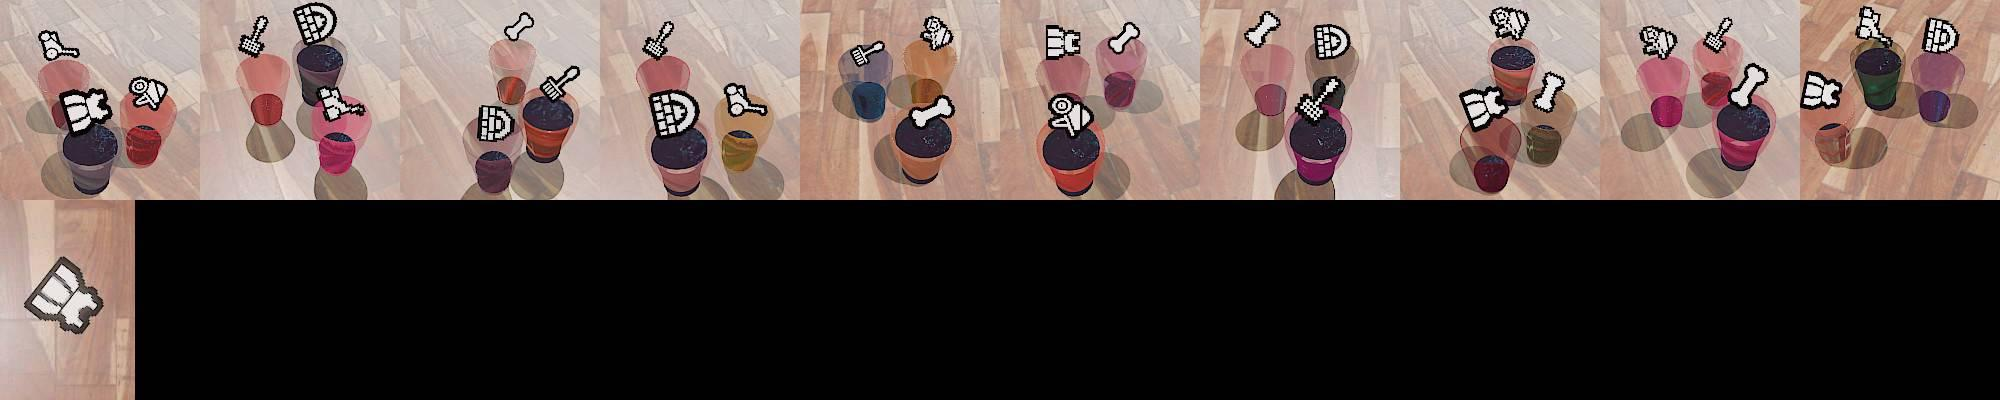icon: (1040, 93, 1105, 195), (892, 88, 958, 187), (23, 257, 106, 335), (648, 88, 702, 138), (58, 86, 112, 134), (1461, 84, 1511, 131), (293, 3, 340, 49), (1294, 78, 1339, 122), (1728, 61, 1768, 109), (317, 84, 365, 121), (1854, 5, 1894, 49), (723, 82, 770, 119), (1800, 70, 1843, 109), (1532, 70, 1568, 114), (540, 64, 581, 102), (36, 29, 80, 63), (477, 103, 515, 142), (1244, 10, 1282, 49), (1922, 17, 1959, 56), (1313, 22, 1351, 59), (129, 76, 169, 111), (642, 20, 677, 60), (1489, 6, 1530, 40), (238, 15, 270, 58), (1045, 23, 1082, 60), (1640, 25, 1679, 60), (919, 14, 955, 51), (1702, 16, 1734, 54), (1107, 19, 1141, 54), (848, 40, 885, 68), (503, 11, 535, 42)
